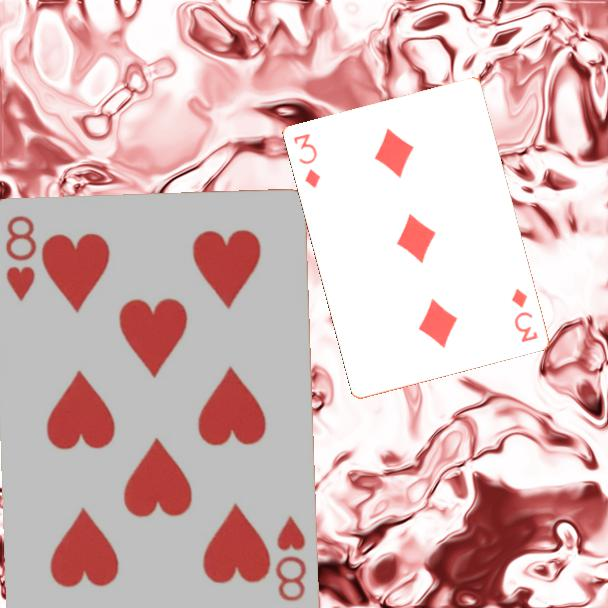d03: (290, 130, 324, 192), (508, 285, 541, 345)
h08: (2, 212, 40, 304), (272, 513, 310, 604)
